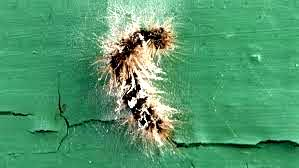Caterpillar: (104, 17, 185, 146)
